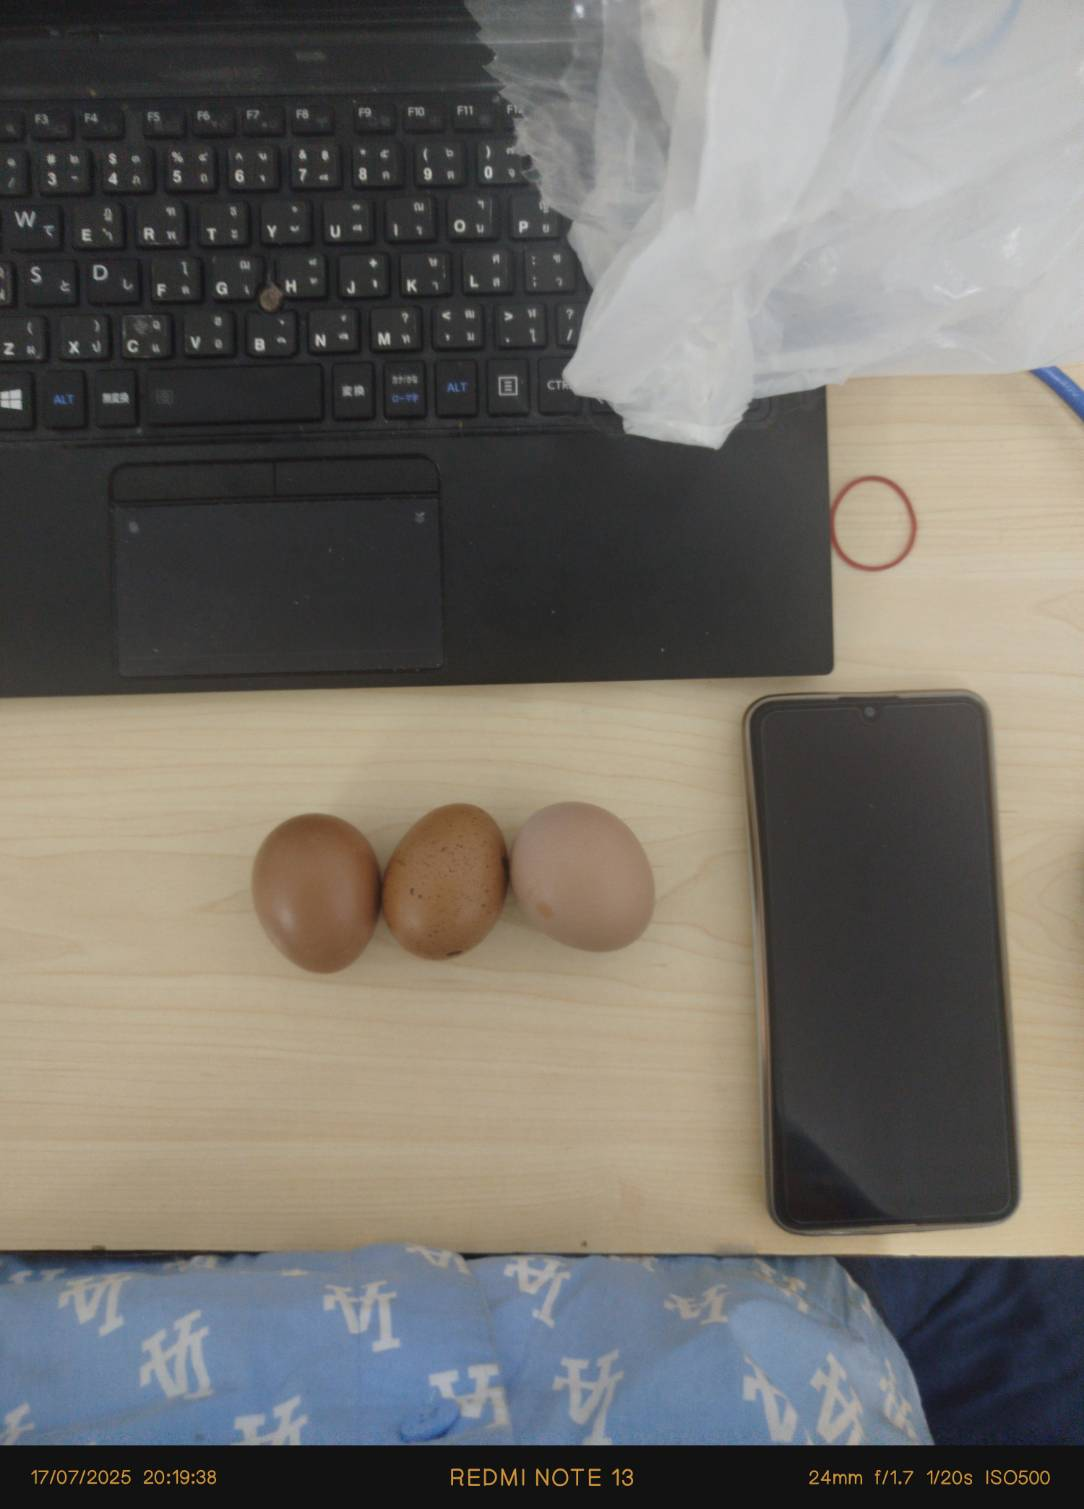egg7: (244, 799, 382, 976), (511, 796, 657, 954), (386, 794, 511, 965)
